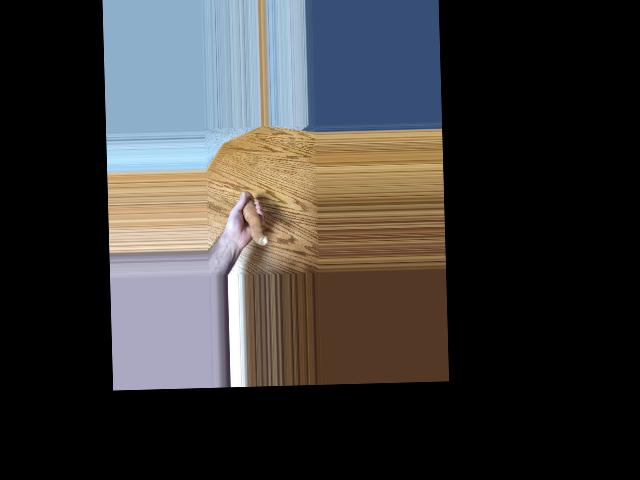sweet_potato: (241, 188, 267, 249)
